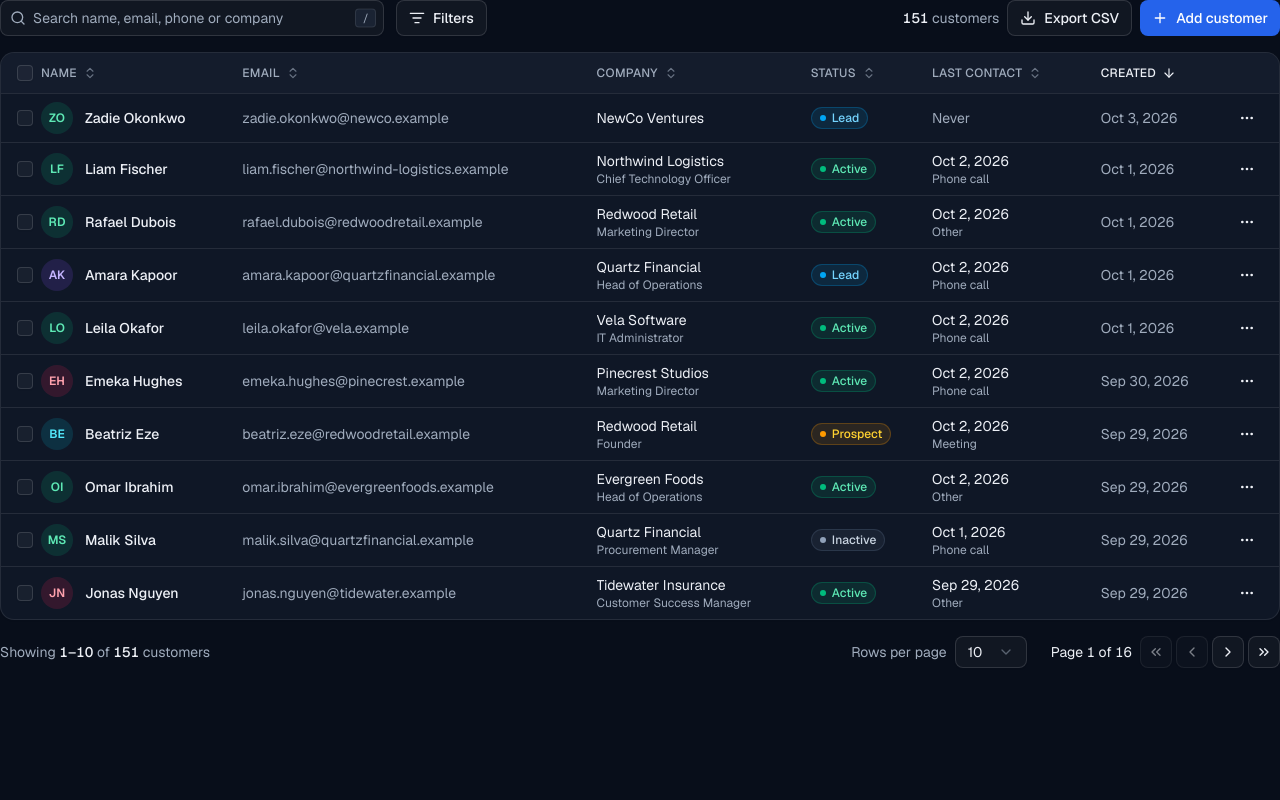
Test: customer CRUD, details, contact and notes › details drawer › shows placeholders for a customer who was never contacted
What coordinates should you click on to do the following:
click the button "Zadie Okonkwo"
I would click on:
 (135, 118)
Its box is top-left (85, 108), bottom-right (185, 128).
(page scrolled)
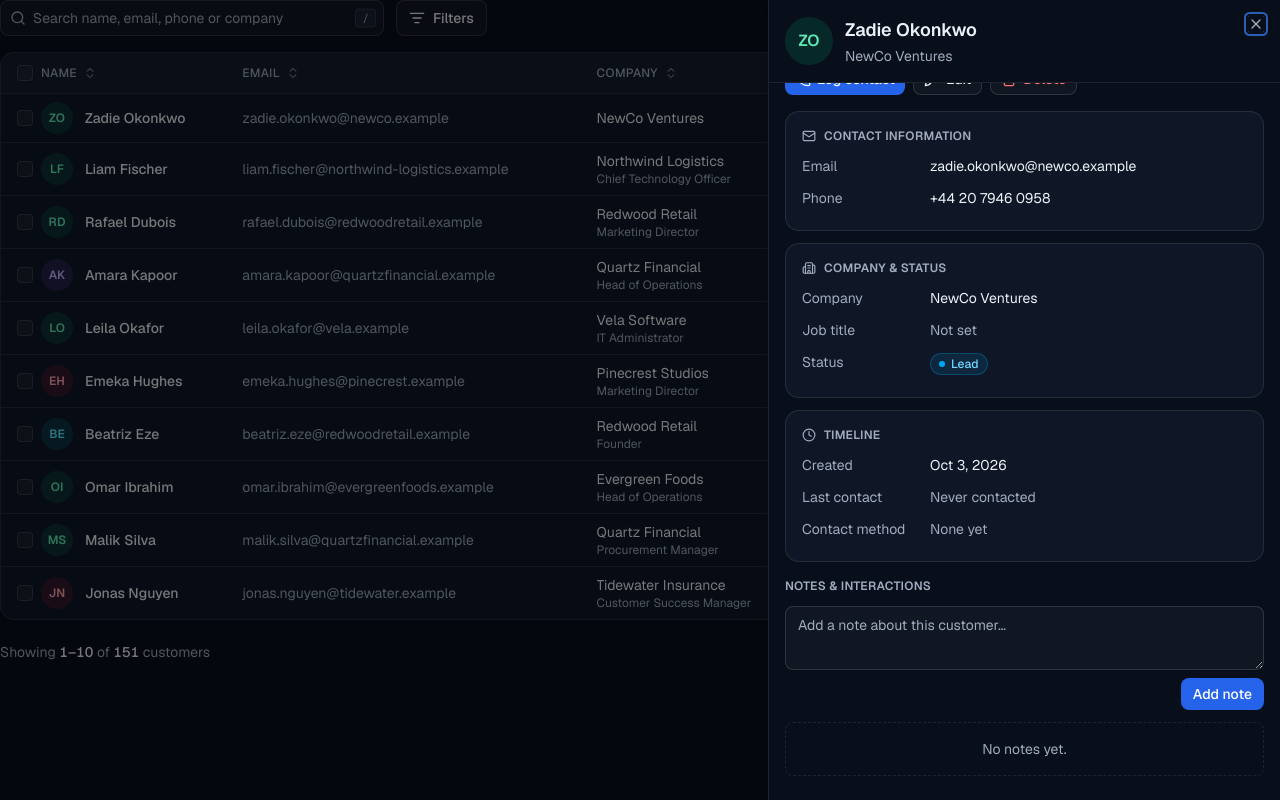
Expected: the text "Never contacted" is shown, top-left (930, 488), bottom-right (1036, 506)
Expected: the text "None yet" is shown, top-left (930, 520), bottom-right (988, 538)
Expected: the text "Not set" is shown, top-left (930, 321), bottom-right (977, 339)
